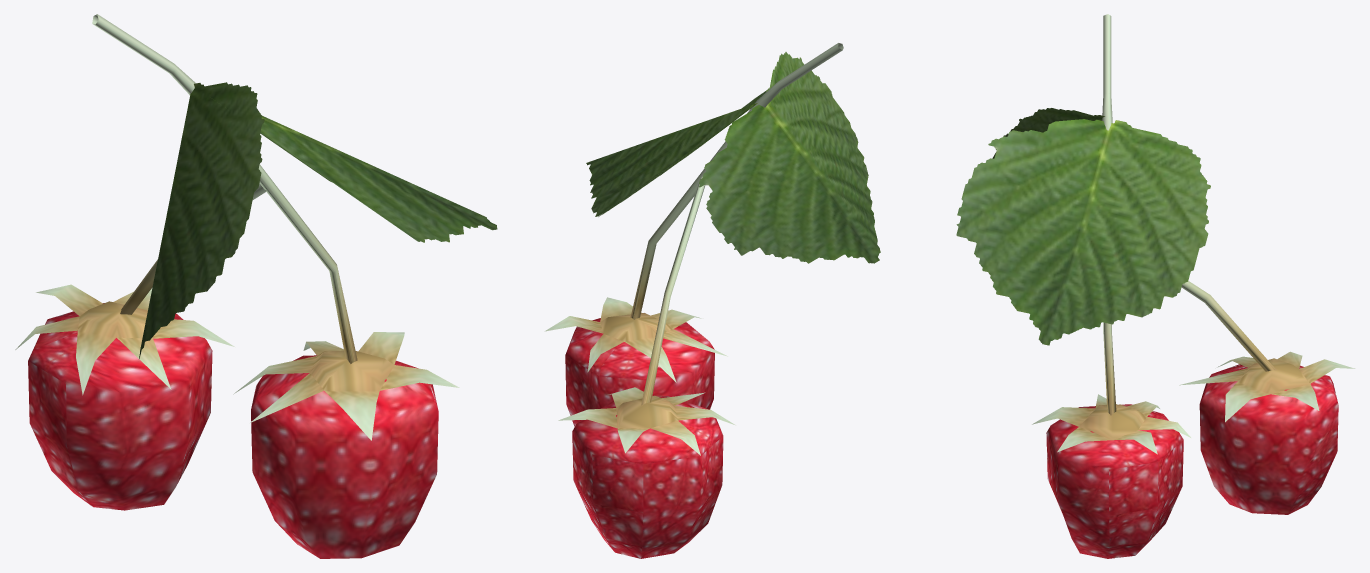
File: Malina.FBX
The picture shows the model from 3 angles, left to right: view 1: azimuth 30°, elevation 25°; view 2: azimuth 150°, elevation 25°; view 3: azimuth 270°, elevation 25°; orthographic projection. The views are drawn at different scales.
Parts seen in each view (by area): view 1: Malina, Listok; view 2: Malina, Listok; view 3: Listok, Malina.
Part boxes in pixels (x1,y1,x2,y2): Malina: (15,14,459,558); Listok: (139,82,497,358); Malina: (544,43,843,558); Listok: (586,52,880,263); Listok: (956,108,1210,345); Malina: (1032,14,1355,558).
Bounding box in the file's own units: 28.72 × 44.4 × 38.38.
